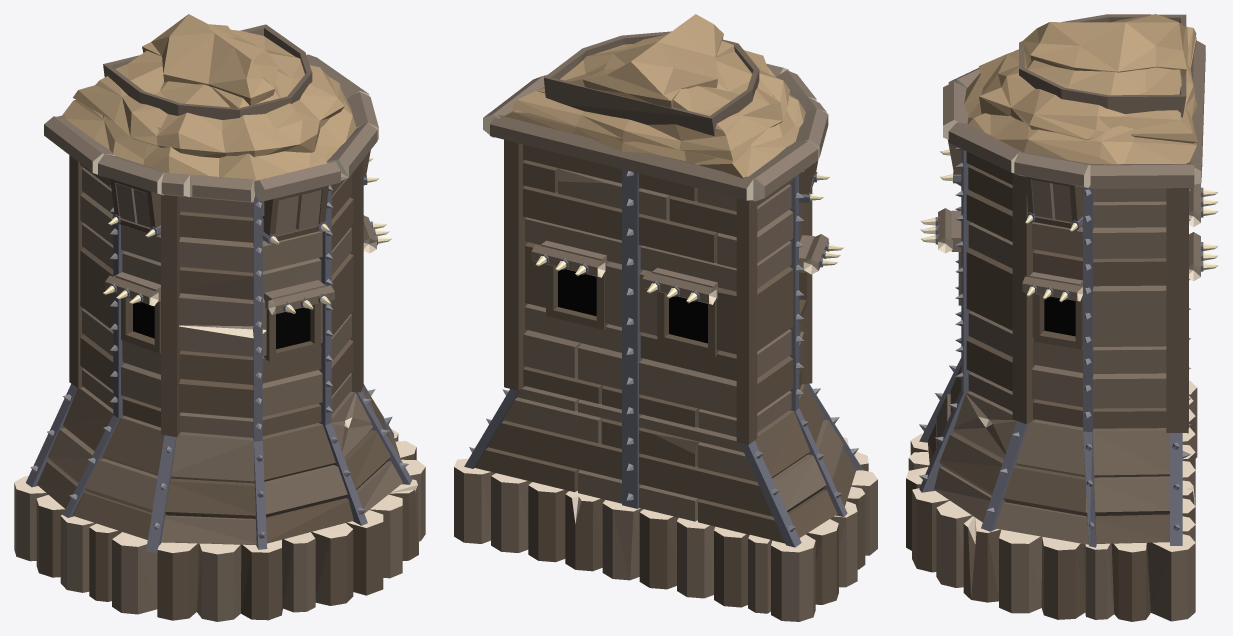
File: FORTRESS_FULL.fbx
3 renders of one model, left to right at view 1: azimuth 30°, elevation 25°; view 2: azimuth 150°, elevation 25°; view 3: azimuth 270°, elevation 25°, orthographic. The views are drawn at different scales.
Visible parts, largest first — view 1: FORTRESS_FOUNDATION_01, FORTRESS_MIDDLE_01, FORTRESS_ROOF_01; view 2: FORTRESS_FOUNDATION_01, FORTRESS_MIDDLE_01, FORTRESS_ROOF_01; view 3: FORTRESS_FOUNDATION_01, FORTRESS_MIDDLE_01, FORTRESS_ROOF_01.
Part boxes in pixels (<box>): FORTRESS_FOUNDATION_01: <box>14,384,425,621</box>; FORTRESS_MIDDLE_01: <box>69,187,391,441</box>; FORTRESS_ROOF_01: <box>44,14,379,245</box>; FORTRESS_FOUNDATION_01: <box>454,383,877,621</box>; FORTRESS_MIDDLE_01: <box>504,185,843,444</box>; FORTRESS_ROOF_01: <box>483,14,829,243</box>; FORTRESS_FOUNDATION_01: <box>906,358,1197,621</box>; FORTRESS_MIDDLE_01: <box>920,183,1218,433</box>; FORTRESS_ROOF_01: <box>940,14,1205,231</box>.
Size of the model in its own units: 768 by 1052 by 581.
